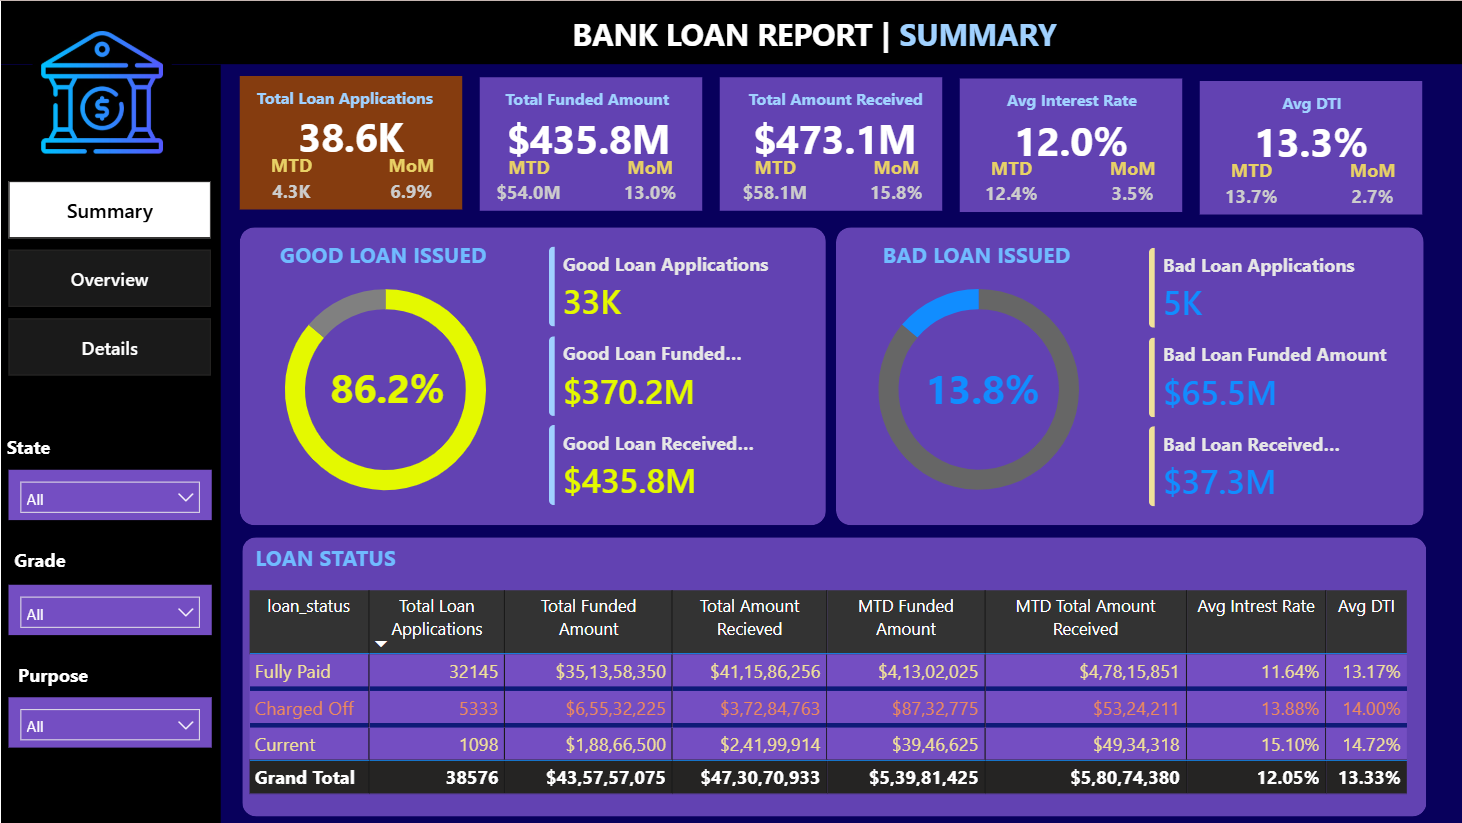

What the dashboard file says about the page in this screenshot:
{"tool":"powerbi","page":{"name":"Summary","canvas":[1280,720],"ordinal":0},"visuals":[{"type":"shape","box":[0,0,1280.2,55.6],"z":0},{"type":"shape","box":[0,55.6,192,663.9],"z":1000},{"type":"textbox","box":[486.4,4.9,449.4,48.1],"z":2000},{"type":"shape","box":[208.3,65.3,194.4,116.7],"z":3000},{"type":"card","fields":{"Values":["bank_loan_data.Total Loan Applications"]},"box":[208.3,98.6,194.4,41.7],"z":4000},{"type":"textbox","box":[218.1,69.4,176.4,29.2],"z":5000},{"type":"card","title":"MTD","fields":{"Values":["bank_loan_data.MTD Loan Applications"]},"box":[218.1,131.9,70.8,50],"z":6000},{"type":"card","title":"MoM","fields":{"Values":["bank_loan_data.MoM Loan Applications"]},"box":[323.6,131.9,70.8,50],"z":7000},{"type":"shape","box":[418.2,66.4,194.4,116.7],"z":8000},{"type":"card","fields":{"Values":["bank_loan_data.Total Funded Amount"]},"box":[416.1,99.7,194.4,41.7],"z":9000},{"type":"textbox","box":[425.8,70.6,176.4,29.2],"z":10000},{"type":"card","title":"MTD","fields":{"Values":["bank_loan_data.MTD Funded Amount"]},"box":[425.8,133.1,70.8,50],"z":11000},{"type":"card","title":"MoM","fields":{"Values":["bank_loan_data.MoM Total Funded Amount"]},"box":[531.4,133.1,70.8,50],"z":12000},{"type":"shape","box":[628.1,66.5,194.4,116.7],"z":13000},{"type":"card","fields":{"Values":["bank_loan_data.Total Amount Recieved"]},"box":[631.4,99.8,194.4,41.7],"z":14000},{"type":"textbox","box":[641.1,70.7,176.4,29.2],"z":15000},{"type":"card","title":"MTD","fields":{"Values":["bank_loan_data.MTD Total Amount Received"]},"box":[641.1,133.2,70.8,50],"z":16000},{"type":"card","title":"MoM","fields":{"Values":["bank_loan_data.MoM Total Amount Received"]},"box":[746.7,133.2,70.8,50],"z":17000},{"type":"shape","box":[838,67.7,194.4,116.7],"z":18000},{"type":"card","fields":{"Values":["bank_loan_data.Avg Intrest Rate"]},"box":[837.9,101.1,194.4,41.7],"z":19000},{"type":"textbox","box":[847.6,71.9,176.4,29.2],"z":20000},{"type":"card","title":"MTD","fields":{"Values":["bank_loan_data.MTD Avg Intrest Rate"]},"box":[847.6,134.4,70.8,50],"z":21000},{"type":"card","title":"MoM","fields":{"Values":["bank_loan_data.MoM Avg Intrest Rate"]},"box":[953.2,134.4,70.8,50],"z":22000},{"type":"shape","box":[1047.9,69.7,194.4,116.7],"z":23000},{"type":"card","fields":{"Values":["bank_loan_data.Avg DTI"]},"box":[1047.9,103.1,194.4,41.7],"z":24000},{"type":"textbox","box":[1057.6,73.9,176.4,29.2],"z":25000},{"type":"card","title":"MTD","fields":{"Values":["bank_loan_data.MTD Avg DTI"]},"box":[1057.6,136.4,70.8,50],"z":26000},{"type":"card","title":"MoM","fields":{"Values":["bank_loan_data.MoM Avg DTI"]},"box":[1163.2,136.4,70.8,50],"z":27000},{"type":"shape","box":[208.6,197.5,512.3,260.5],"z":28000},{"type":"shape","box":[729.6,197.5,513.6,260.5],"z":29000},{"type":"donutChart","fields":{"Category":["bank_loan_data.Good vs Bad Loan"],"Y":["bank_loan_data.Total Loan Applications"]},"box":[211.1,224.7,250.6,229.6],"z":30000},{"type":"card","fields":{"Values":["bank_loan_data.Good Loan %"]},"box":[277.2,317,120.8,42.5],"z":31000},{"type":"textbox","box":[233,203.9,208.1,41.6],"z":32000},{"type":"cardVisual","fields":{"Data":["bank_loan_data.Good Loan Applications","bank_loan_data.Good Loan Funded Amount","bank_loan_data.Good Loan Received Amount"]},"box":[461.7,197.5,259.3,261.7],"z":33000},{"type":"donutChart","fields":{"Category":["bank_loan_data.Good vs Bad Loan"],"Y":["bank_loan_data.Total Loan Applications"]},"box":[730,225,249.7,229.2],"z":34000},{"type":"textbox","box":[750.4,203.9,209.5,45.8],"z":35000},{"type":"cardVisual","fields":{"Data":["bank_loan_data.Bad Loan Applications","bank_loan_data.Bad Loan Funded Amount","bank_loan_data.Bad Loan Received Amount"]},"box":[986.2,198.4,259.4,260.8],"z":36000},{"type":"card","fields":{"Values":["bank_loan_data.Bad Loan %"]},"box":[797.6,317.6,120.7,41.6],"z":37000},{"type":"shape","box":[210.8,468.8,1034.8,244.1],"z":38000},{"type":"tableEx","fields":{"Values":["bank_loan_data.loan_status","bank_loan_data.Total Loan Applications","bank_loan_data.Total Funded Amount","bank_loan_data.Total Amount Recieved","bank_loan_data.MTD Funded Amount","bank_loan_data.MTD Total Amount Received","bank_loan_data.Avg Intrest Rate","bank_loan_data.Avg DTI"]},"box":[210.8,510.4,1032,202.5],"z":39000},{"type":"textbox","box":[217.8,468.8,198.4,41.6],"z":40000},{"type":"slicer","fields":{"Values":["bank_loan_data.address_state"]},"box":[6.9,409.2,177.5,44.4],"z":41000},{"type":"textbox","box":[0,373.1,88.8,36.1],"z":42000},{"type":"slicer","fields":{"Values":["bank_loan_data.grade"]},"box":[6.9,510.4,177.5,44.4],"z":43000},{"type":"textbox","box":[6.9,471.6,88.8,36.1],"z":44000},{"type":"textbox","box":[9.7,572.9,86,36.1],"z":45000},{"type":"slicer","fields":{"Values":["bank_loan_data.purpose"]},"box":[6.9,608.9,177.5,44.4],"z":46000},{"type":"pageNavigator","box":[6.8,157.3,177.7,170.9],"z":47000},{"type":"image","box":[16.3,19,143.8,122.1],"z":48000}]}

Visuals, with their boxes in screenshot pixels (x1, y1, x2, y2), scaled from the page's 1280x720 canvas onto the 1462x823 screenshot:
shape: bbox=(0, 0, 1461, 64)
shape: bbox=(0, 64, 219, 822)
textbox: bbox=(556, 6, 1069, 61)
shape: bbox=(238, 75, 460, 208)
card - bank_loan_data.Total Loan Applications: bbox=(238, 113, 460, 160)
textbox: bbox=(249, 79, 451, 113)
"MTD" card: bbox=(249, 151, 330, 208)
"MoM" card: bbox=(370, 151, 450, 208)
shape: bbox=(478, 76, 700, 209)
card - bank_loan_data.Total Funded Amount: bbox=(475, 114, 697, 162)
textbox: bbox=(486, 81, 688, 114)
"MTD" card: bbox=(486, 152, 567, 209)
"MoM" card: bbox=(607, 152, 688, 209)
shape: bbox=(717, 76, 939, 209)
card - bank_loan_data.Total Amount Recieved: bbox=(721, 114, 943, 162)
textbox: bbox=(732, 81, 934, 114)
"MTD" card: bbox=(732, 152, 813, 209)
"MoM" card: bbox=(853, 152, 934, 209)
shape: bbox=(957, 77, 1179, 211)
card - bank_loan_data.Avg Intrest Rate: bbox=(957, 116, 1179, 163)
textbox: bbox=(968, 82, 1170, 116)
"MTD" card: bbox=(968, 154, 1049, 211)
"MoM" card: bbox=(1089, 154, 1170, 211)
shape: bbox=(1197, 80, 1419, 213)
card - bank_loan_data.Avg DTI: bbox=(1197, 118, 1419, 166)
textbox: bbox=(1208, 84, 1409, 118)
"MTD" card: bbox=(1208, 156, 1289, 213)
"MoM" card: bbox=(1329, 156, 1409, 213)
shape: bbox=(238, 226, 823, 524)
shape: bbox=(833, 226, 1420, 524)
donutChart - bank_loan_data.Good vs Bad Loan x bank_loan_data.Total Loan Applications: bbox=(241, 257, 527, 519)
card - bank_loan_data.Good Loan %: bbox=(317, 362, 455, 411)
textbox: bbox=(266, 233, 504, 281)
cardVisual - bank_loan_data.Good Loan Applications x bank_loan_data.Good Loan Funded Amount: bbox=(527, 226, 824, 525)
donutChart - bank_loan_data.Good vs Bad Loan x bank_loan_data.Total Loan Applications: bbox=(834, 257, 1119, 519)
textbox: bbox=(857, 233, 1096, 285)
cardVisual - bank_loan_data.Bad Loan Applications x bank_loan_data.Bad Loan Funded Amount: bbox=(1126, 227, 1423, 525)
card - bank_loan_data.Bad Loan %: bbox=(911, 363, 1049, 411)
shape: bbox=(241, 536, 1423, 815)
tableEx - bank_loan_data.loan_status x bank_loan_data.Total Loan Applications: bbox=(241, 583, 1420, 815)
textbox: bbox=(249, 536, 475, 583)
slicer - bank_loan_data.address_state: bbox=(8, 468, 211, 518)
textbox: bbox=(0, 426, 101, 468)
slicer - bank_loan_data.grade: bbox=(8, 583, 211, 634)
textbox: bbox=(8, 539, 109, 580)
textbox: bbox=(11, 655, 109, 696)
slicer - bank_loan_data.purpose: bbox=(8, 696, 211, 747)
pageNavigator: bbox=(8, 180, 211, 375)
image: bbox=(19, 22, 183, 161)
